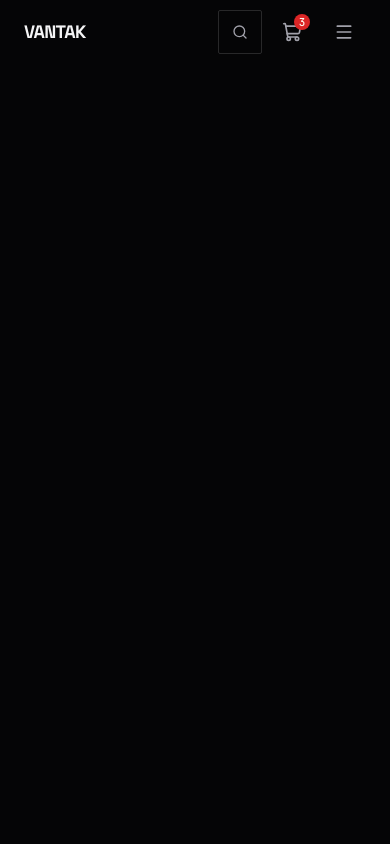
Test: on a narrow viewport › offers the same navigation behind a menu control
Click the button named "menu" at (344, 32), box [322,10,366,54]
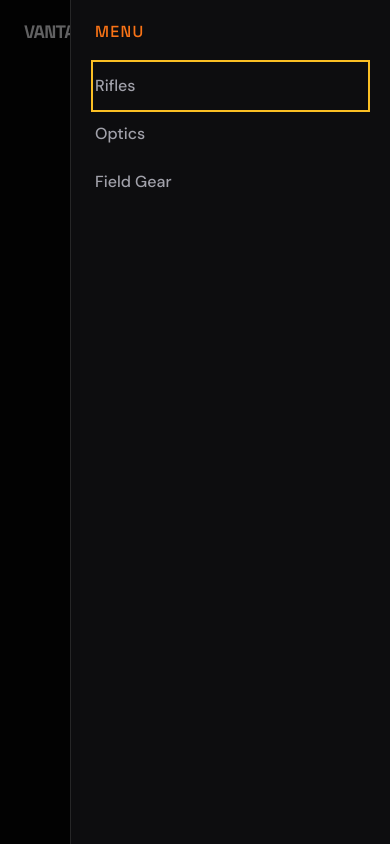
Now the links read "Rifles", "Optics", "Field Gear", in this order, box [95,75,136,96]; [95,123,145,144]; [95,171,172,192]
